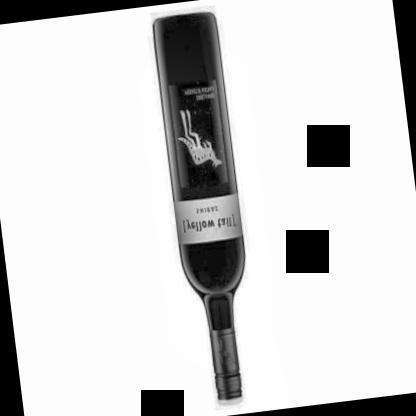yellowtail: (158, 79, 244, 246)
